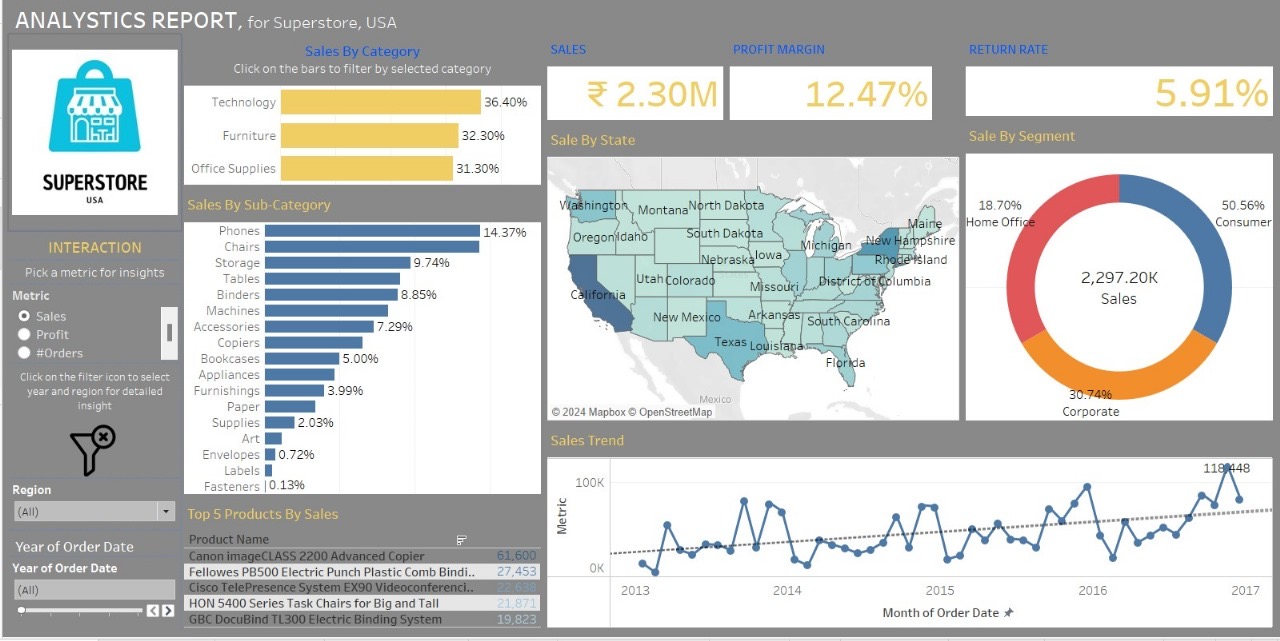

The page's visual inventory and layout, read from the dashboard file:
{"tool":"tableau","page":{"name":"Que. 7th Final Dashboard ","canvas":[1000,1000],"units":"permille","ordinal":0},"visuals":[{"type":"title","box":[5,10,990,47.5]},{"type":"image","param":"Image/Picture1.jpg","box":[5,57.5,134.1,306.8]},{"type":"worksheet","title":"Sales By Category","mark":"Automatic","rows":["Category"],"box":[139.1,57.5,284.1,240]},{"type":"worksheet","title":"SALES","mark":"Automatic","box":[423.1,57.5,142.5,138.8]},{"type":"worksheet","title":"PROFIT MARGIN","mark":"Automatic","box":[565.6,57.5,163.1,138.8]},{"type":"worksheet","title":"RETURN RATE","mark":"Automatic","box":[750,57.5,245,132]},{"type":"worksheet","title":"Sale By Segment","mark":"Pie","rows":["Calculation_501025502097870867","Calculation_501025502097915925"],"box":[750,189.5,245,476.7]},{"type":"worksheet","title":"Sale By State","mark":"Automatic","box":[423.1,196.2,326.9,470]},{"type":"worksheet","title":"Sales By Sub-Category","mark":"Automatic","rows":["Sub-Category"],"box":[139.1,297.5,284.1,483.8]},{"type":"worksheet","title":"Metric","mark":"Automatic","box":[5,364.3,134.1,45.5]},{"type":"text","box":[5,409.8,134.1,37.8]},{"type":"parameter","param":"[Parameters].[Parameter 3]","box":[5,447.6,134.1,123.7]},{"type":"worksheet","title":"Region","mark":"Automatic","box":[5,571.3,134.1,180.2]},{"type":"worksheet","title":"Sales Trend","mark":"Automatic","rows":["Sales","Sales"],"cols":["Order Date"],"box":[423.1,666.2,571.9,323.8]},{"type":"dashboard-object","box":[18.1,667.5,103.8,81.2]},{"type":"filter","title":"Region","param":"[federated.1ja5eug115zp5k1h2e4qc1fzuxx0].[none:Region:nk]","box":[5,751.5,134.1,81.5]},{"type":"worksheet","title":"Top 5 Products By Sales","mark":"Automatic","rows":["Product Name"],"box":[139.1,781.2,284.1,208.8]},{"type":"worksheet","title":"Year of Order Date","mark":"Automatic","box":[5,833,134.1,40.4]},{"type":"filter","title":"Year of Order Date","param":"[federated.1ja5eug115zp5k1h2e4qc1fzuxx0].[yr:Order Date:ok]","box":[5,873.4,134.1,116.6]}]}

Visuals, with their boxes on the dashboard's canvas, which has no fixed pixel size, in thousandths of its width and height (x1, y1, x2, y2). These are canvas units, not pixel positions in the 1280x641 screenshot, which may show the page scaled, cropped or inside an application window:
title: [x1=5, y1=10, x2=995, y2=58]
image: [x1=5, y1=58, x2=139, y2=364]
"Sales By Category" worksheet: [x1=139, y1=58, x2=423, y2=298]
"SALES" worksheet: [x1=423, y1=58, x2=566, y2=196]
"PROFIT MARGIN" worksheet: [x1=566, y1=58, x2=729, y2=196]
"RETURN RATE" worksheet: [x1=750, y1=58, x2=995, y2=190]
"Sale By Segment" worksheet (Pie marks): [x1=750, y1=190, x2=995, y2=666]
"Sale By State" worksheet: [x1=423, y1=196, x2=750, y2=666]
"Sales By Sub-Category" worksheet: [x1=139, y1=298, x2=423, y2=781]
"Metric" worksheet: [x1=5, y1=364, x2=139, y2=410]
text: [x1=5, y1=410, x2=139, y2=448]
parameter: [x1=5, y1=448, x2=139, y2=571]
"Region" worksheet: [x1=5, y1=571, x2=139, y2=752]
"Sales Trend" worksheet: [x1=423, y1=666, x2=995, y2=990]
dashboard-object: [x1=18, y1=668, x2=122, y2=749]
"Region" filter: [x1=5, y1=752, x2=139, y2=833]
"Top 5 Products By Sales" worksheet: [x1=139, y1=781, x2=423, y2=990]
"Year of Order Date" worksheet: [x1=5, y1=833, x2=139, y2=873]
"Year of Order Date" filter: [x1=5, y1=873, x2=139, y2=990]
